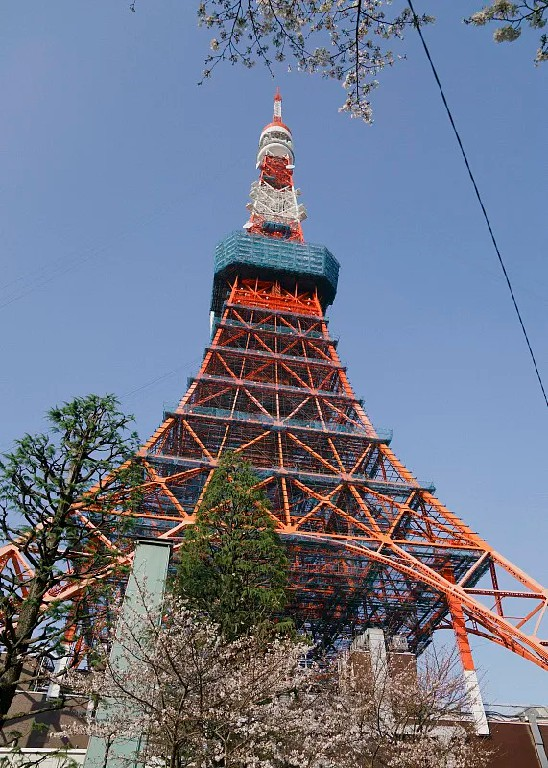Tokyo: (1, 86, 545, 671)
